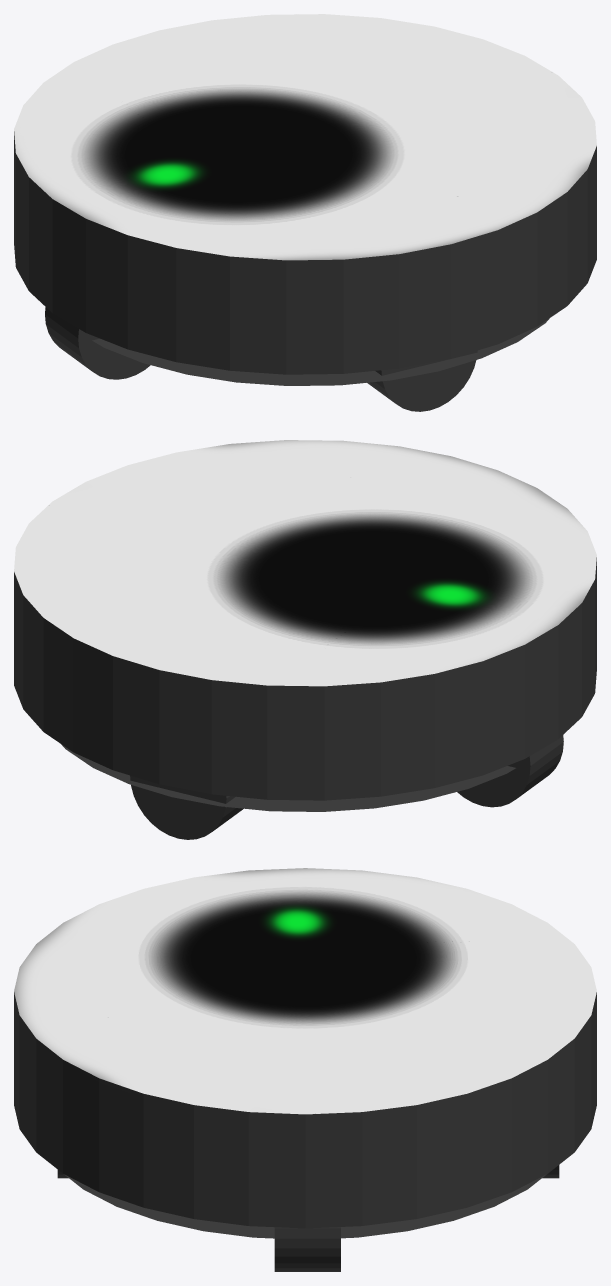
Rendered from roomba.fbx.
The picture shows the model from 3 angles, top to bottom: view 1: azimuth 30°, elevation 25°; view 2: azimuth 150°, elevation 25°; view 3: azimuth 270°, elevation 25°; orthographic projection.
Parts seen in each view (by area): view 1: Cylinder.001; view 2: Cylinder.001; view 3: Cylinder.001.
Part boxes in pixels (left/top/right/bottom): Cylinder.001: left=14, top=14, right=596, bottom=411; Cylinder.001: left=14, top=440, right=596, bottom=839; Cylinder.001: left=14, top=868, right=596, bottom=1271.
Bounding box in the file's own units: 200 × 68.89 × 200.
1 material, 1 textured.
